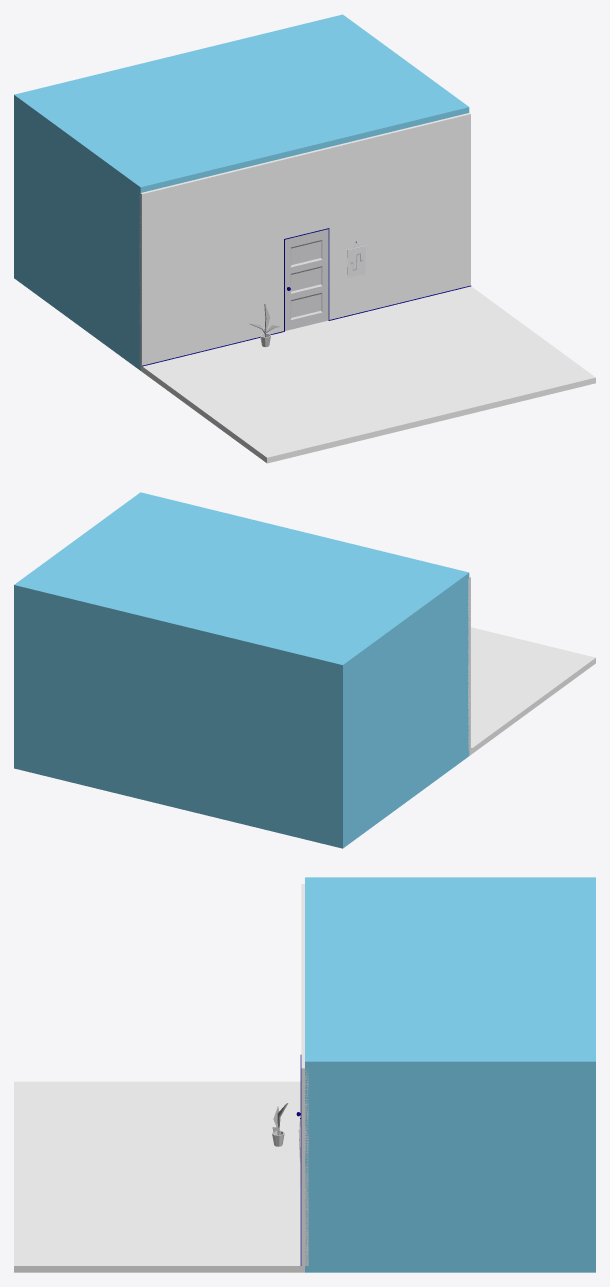
The model's file is door-scene.glb.
3 views of the same model, one above another, from view 1: azimuth 30°, elevation 25°; view 2: azimuth 150°, elevation 25°; view 3: azimuth 270°, elevation 25° (orthographic). The views are drawn at different scales.
Parts seen in each view (by area): view 1: centerWallWall, backCeiling, frontFloor, backLeftWall, door, backFloor; view 2: backWall, backCeiling, backLeftWall, frontFloor, backFloor, backRightWall, centerWallWall; view 3: backRightWall, backCeiling, frontFloor, centerWallWall, backFloor, backWall.
Boxes of the visible parts, x1,y1,x2,y2 form: centerWallWall: (139, 113, 470, 365); backCeiling: (14, 14, 469, 192); frontFloor: (140, 286, 595, 463); backLeftWall: (14, 100, 140, 364); door: (285, 229, 328, 330); backFloor: (14, 273, 140, 370); backWall: (14, 591, 345, 842); backCeiling: (14, 492, 469, 670); backLeftWall: (337, 578, 469, 842); frontFloor: (469, 627, 595, 755); backFloor: (14, 751, 469, 848); backRightWall: (14, 591, 19, 762); centerWallWall: (468, 576, 470, 750); backRightWall: (305, 1068, 595, 1265); backCeiling: (305, 877, 595, 1068); frontFloor: (14, 1081, 304, 1272); centerWallWall: (301, 884, 308, 1265); backFloor: (305, 1266, 595, 1272); backWall: (588, 1068, 595, 1265).
Size of the model in its own units: 6 by 3.2 by 8.
7 materials, 1 textured.
